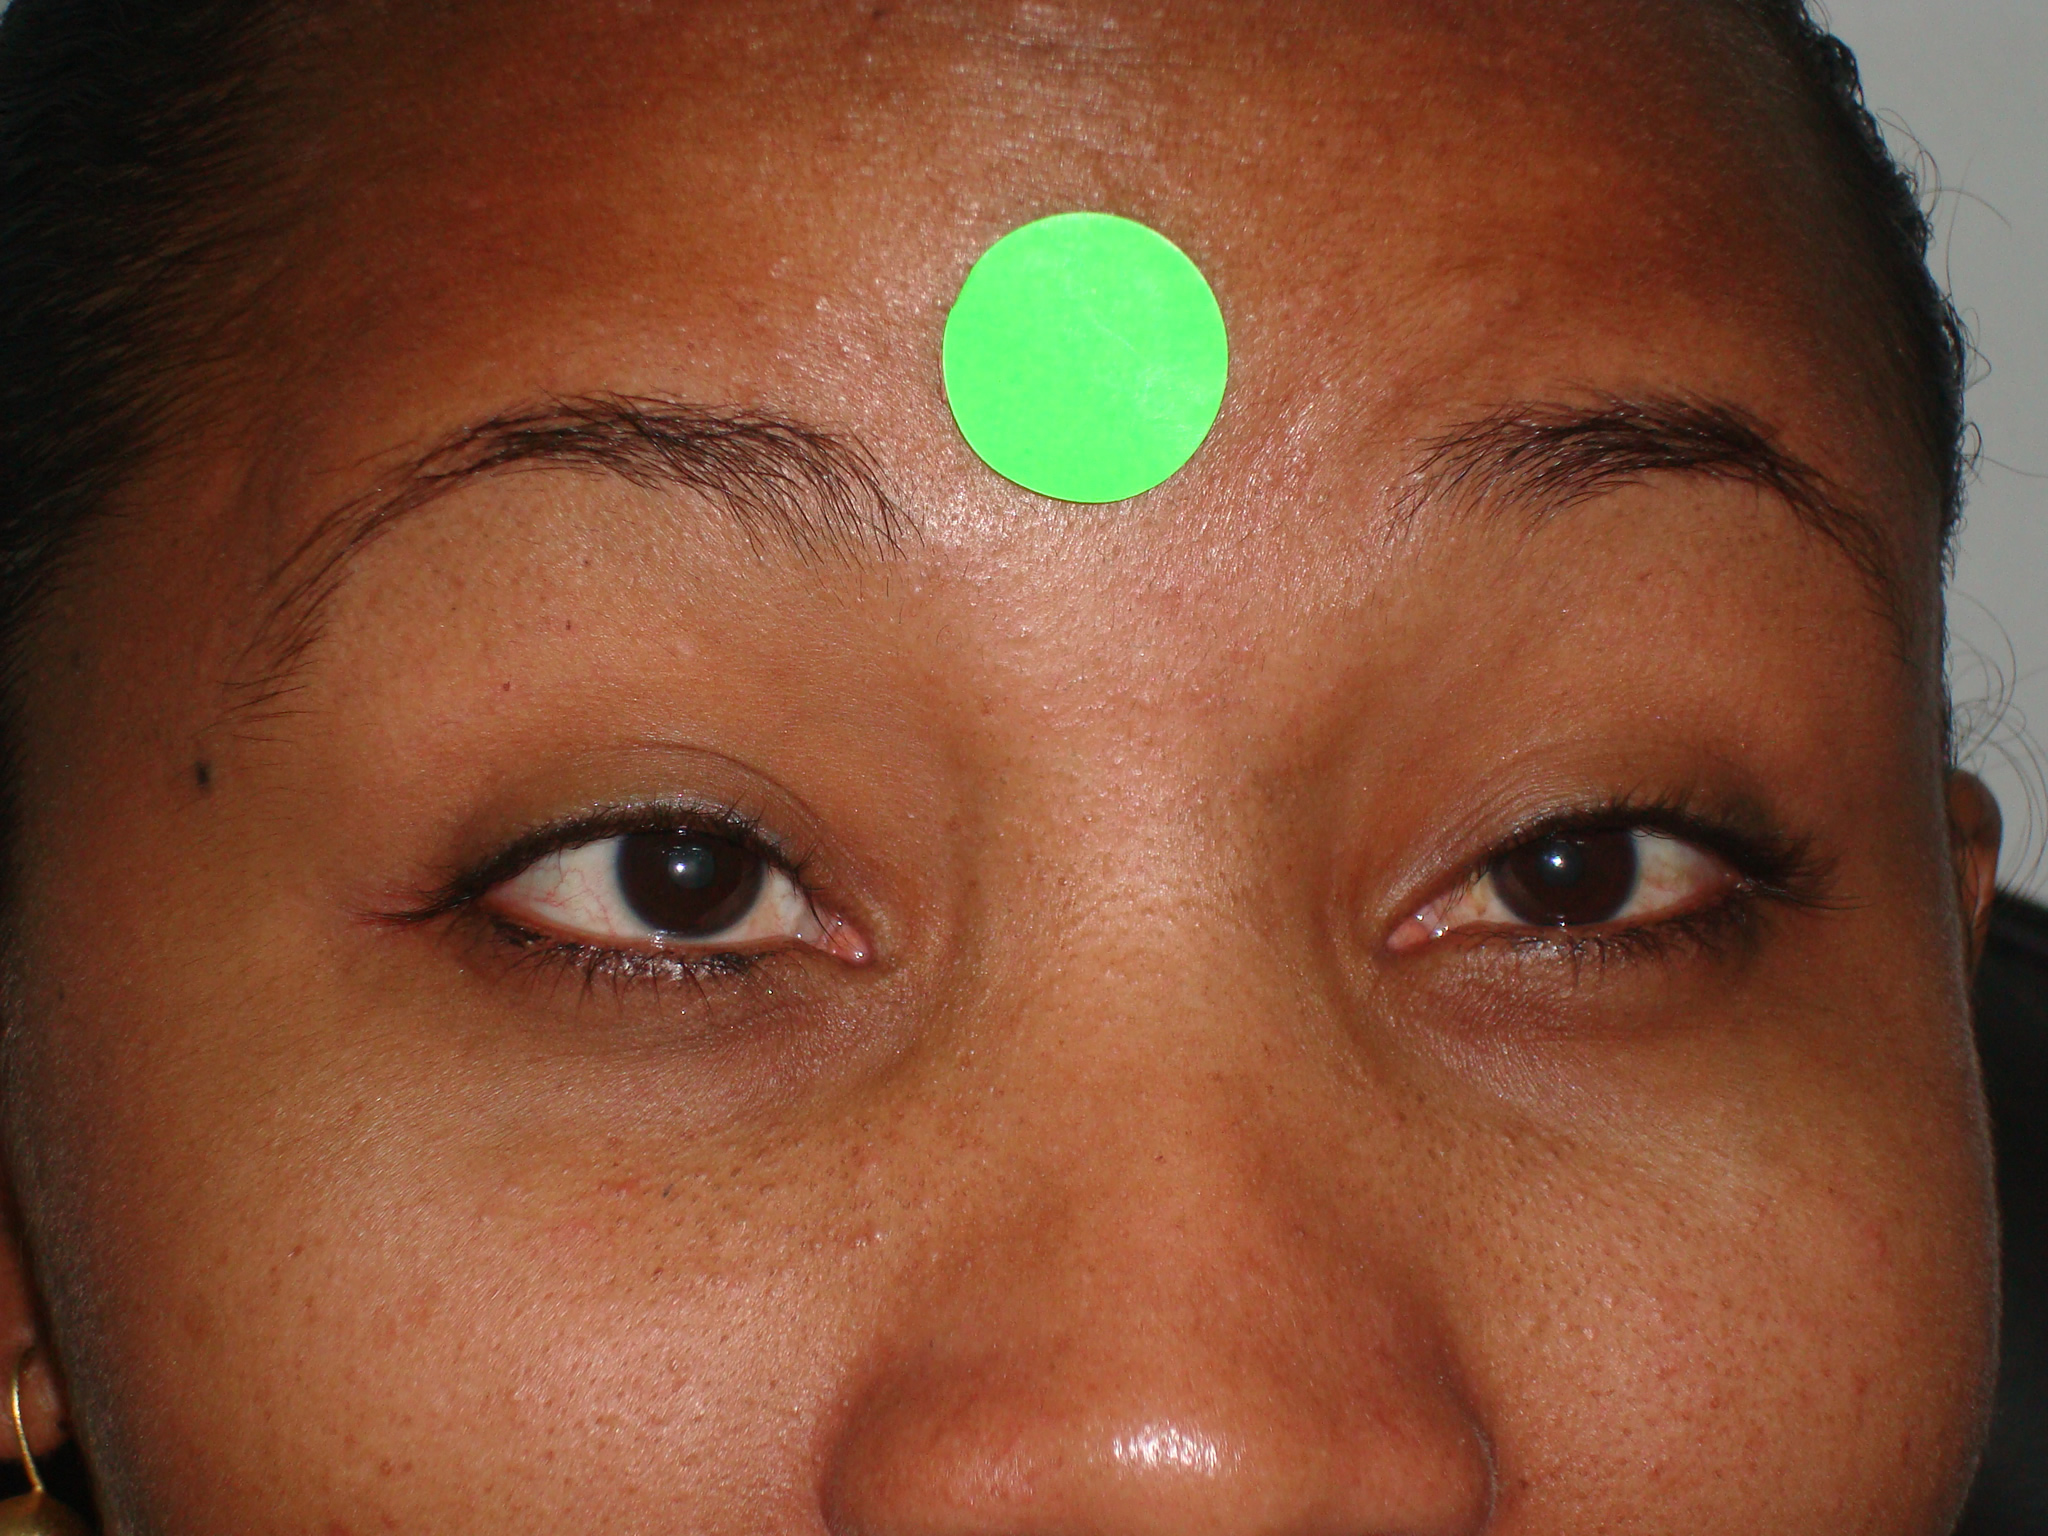flash: (668, 854, 692, 881), (1546, 850, 1569, 871)
limbo: (616, 799, 766, 928), (1490, 799, 1632, 926)
